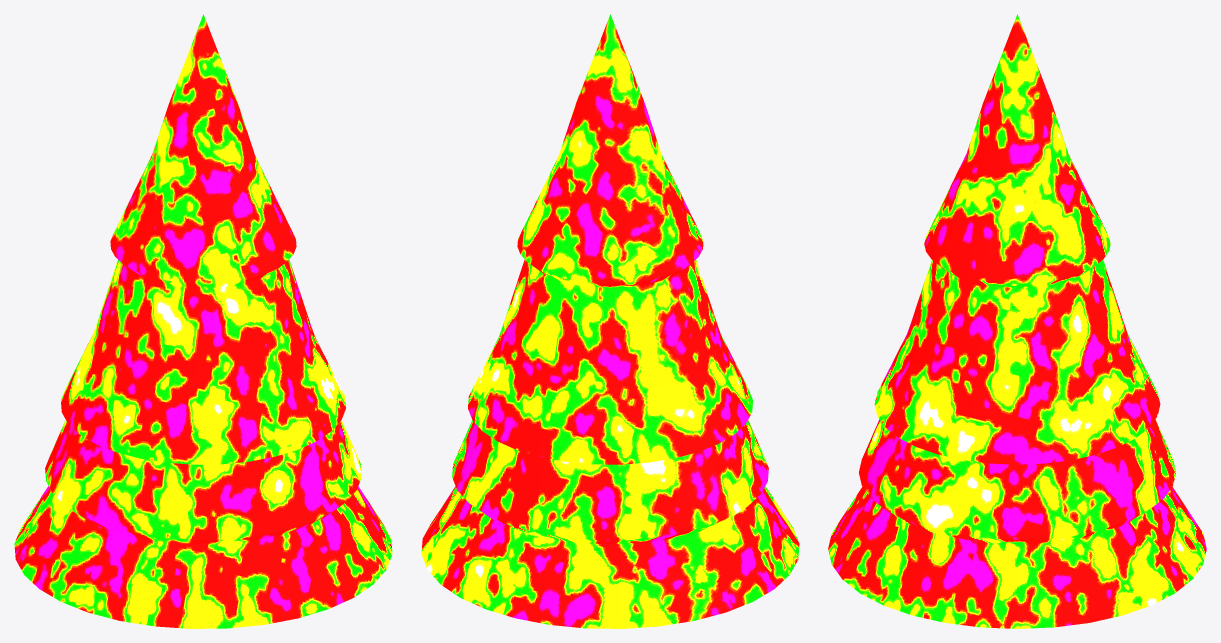
File: Prefab_Xmas_Tree_LightWrap.glb
The picture shows the model from 3 angles, left to right: view 1: azimuth 30°, elevation 25°; view 2: azimuth 150°, elevation 25°; view 3: azimuth 270°, elevation 25°; orthographic projection.
Visible parts, largest first — view 1: Lights_Speck_A; view 2: Lights_Speck_A; view 3: Lights_Speck_A.
Part boxes in pixels (box(x1,y1,x2,y2)): Lights_Speck_A: box(14, 14, 392, 628); Lights_Speck_A: box(421, 14, 799, 628); Lights_Speck_A: box(828, 14, 1206, 628).
Size of the model in its own units: 1.37 by 2.13 by 1.37.
1 material, 1 textured.
